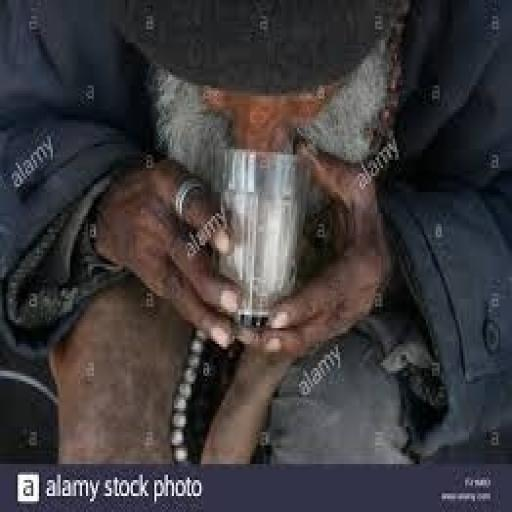drinking: (213, 144, 309, 328)
